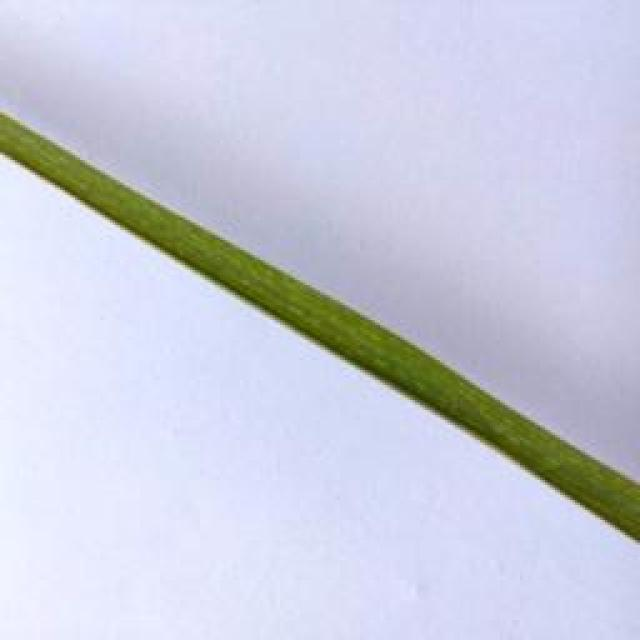Healthy-Plant: (0, 110, 640, 541)
